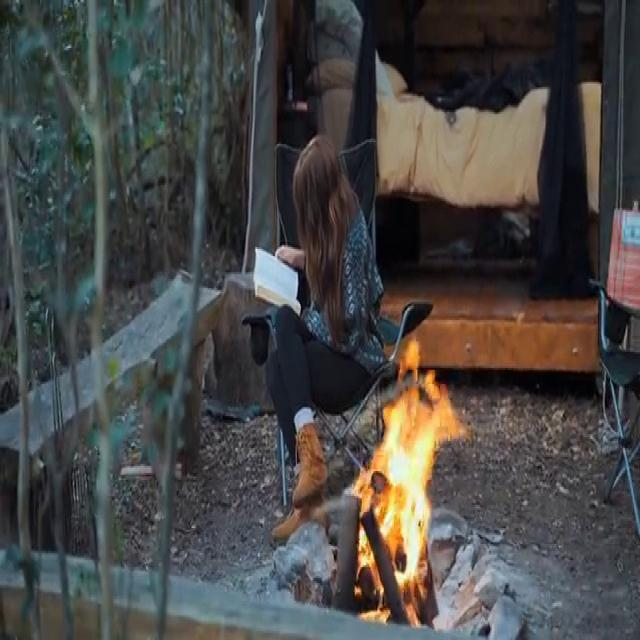Fire: (353, 343, 460, 605)
